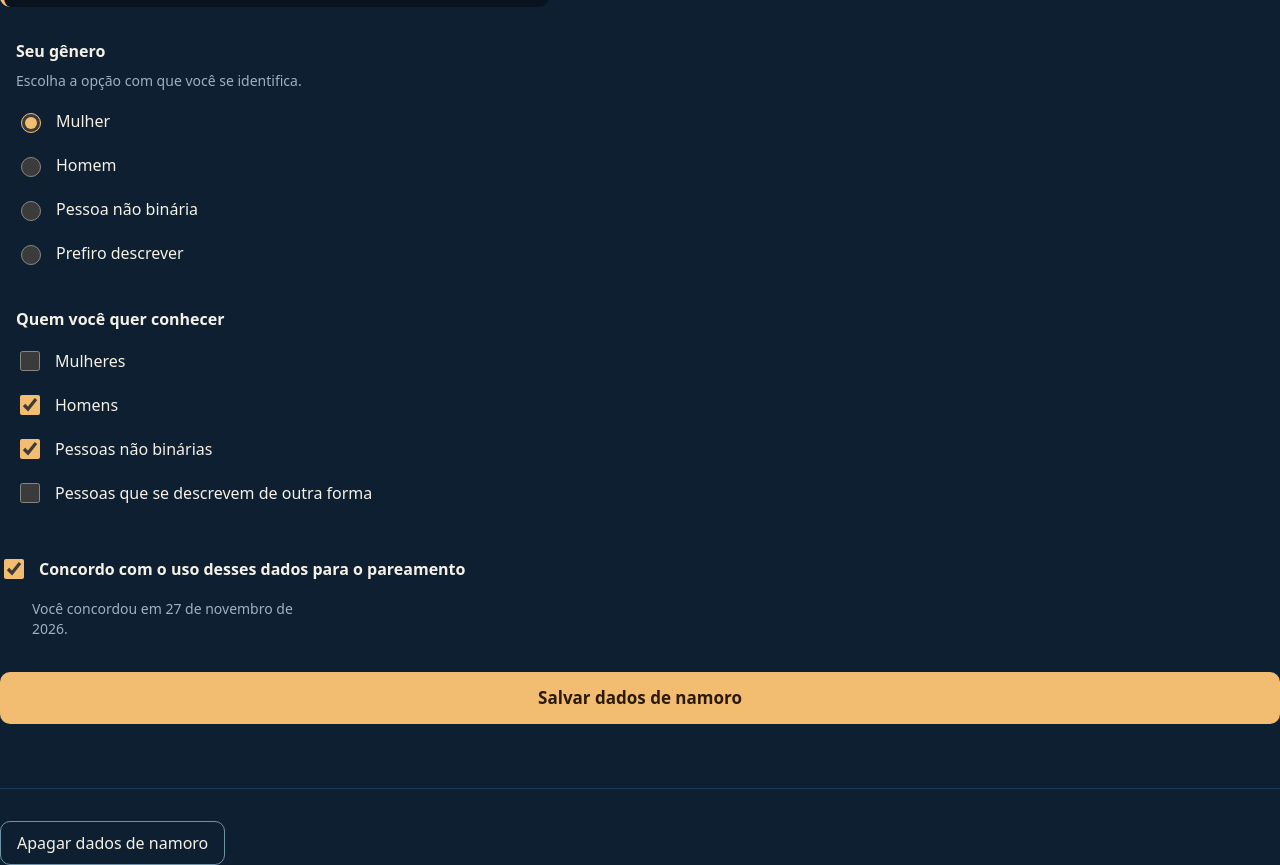
Test: Namoro › apagarPedeConfirmacaoEChamaDelete
(page scrolled)
Click the button "Apagar dados de namoro". click: (113, 843)
box: [0,821,225,864]
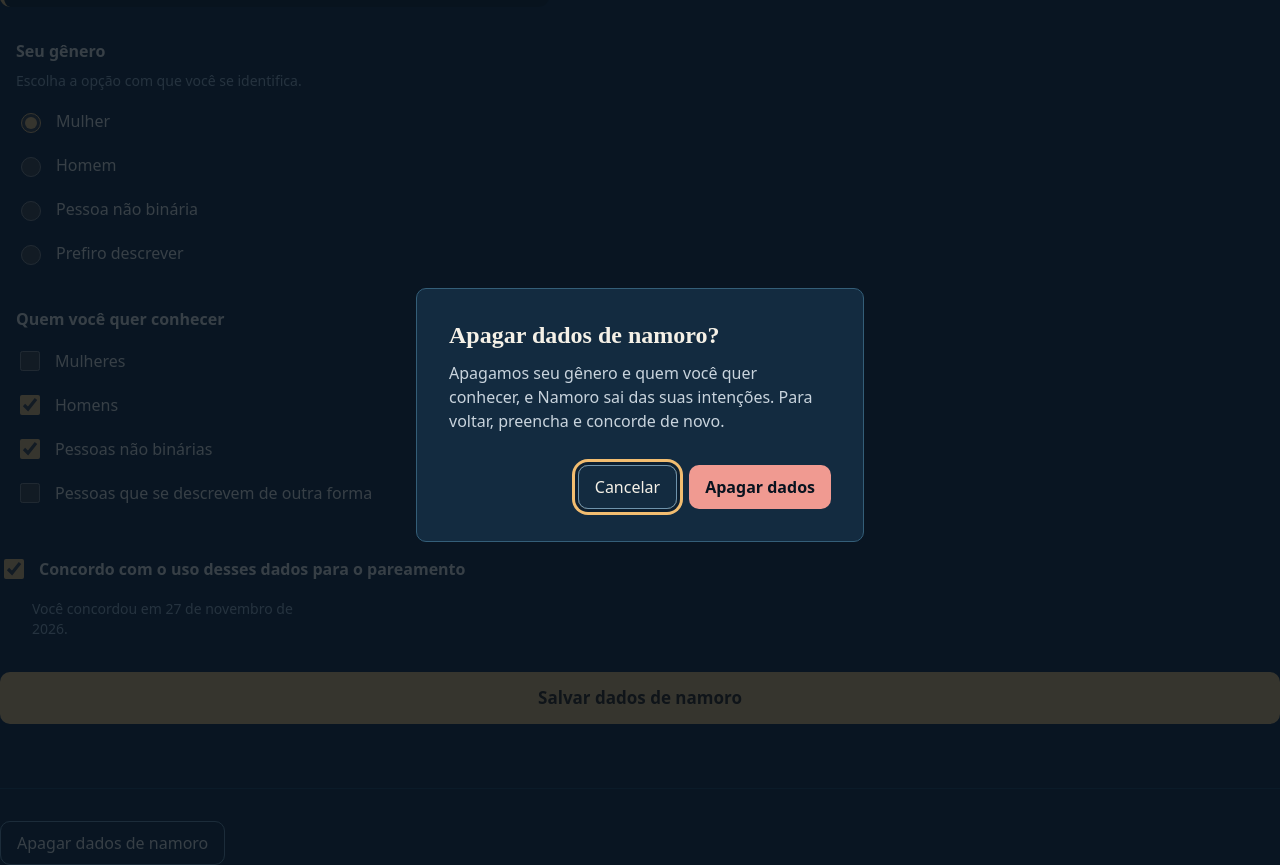
Click the button "Apagar dados". click: (760, 487)
box: [689,465,831,509]
(page scrolled)
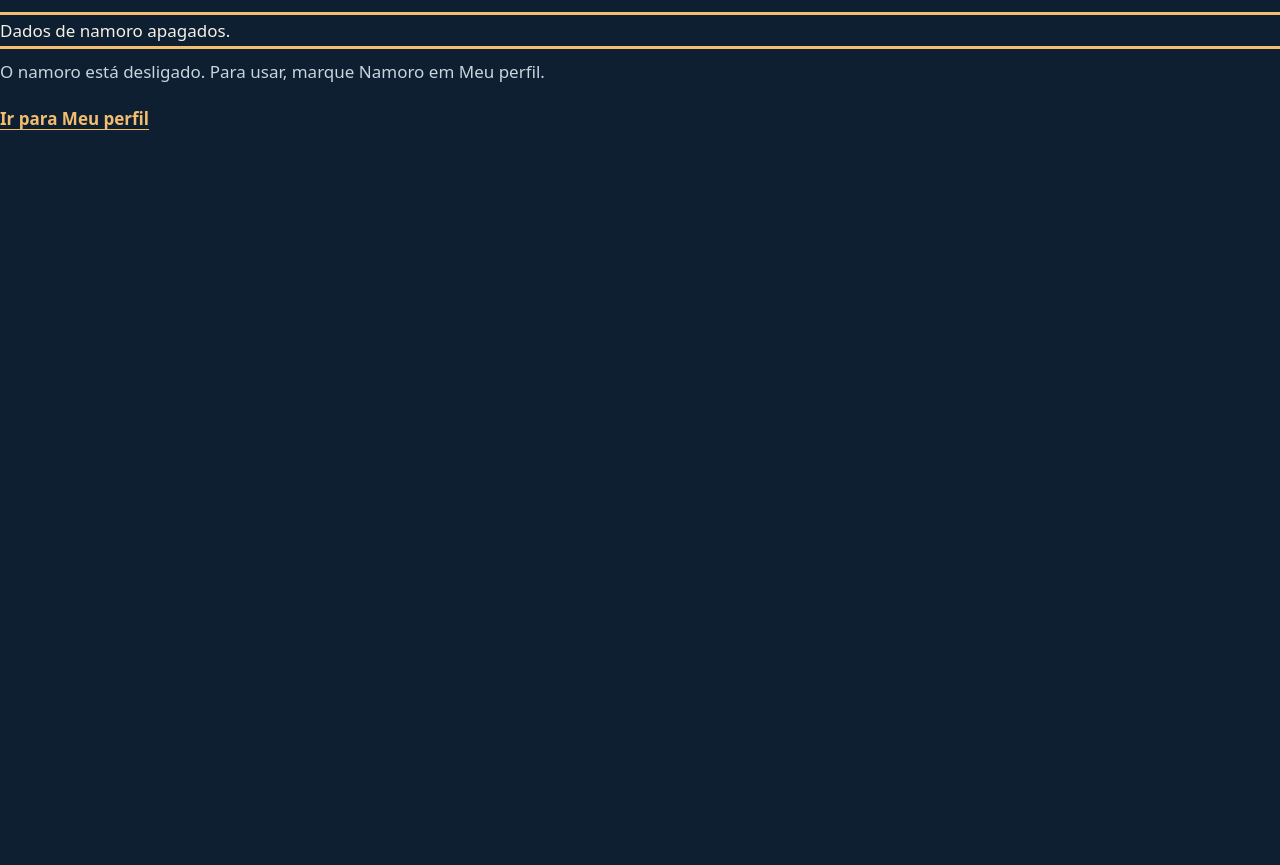
Check: the text "Dados de namoro apagados." is shown, box [0,18,1279,43]
Check: the text "O namoro está desligado. Para usar, marque Namoro em Meu perfil." is shown, box [0,59,545,85]
